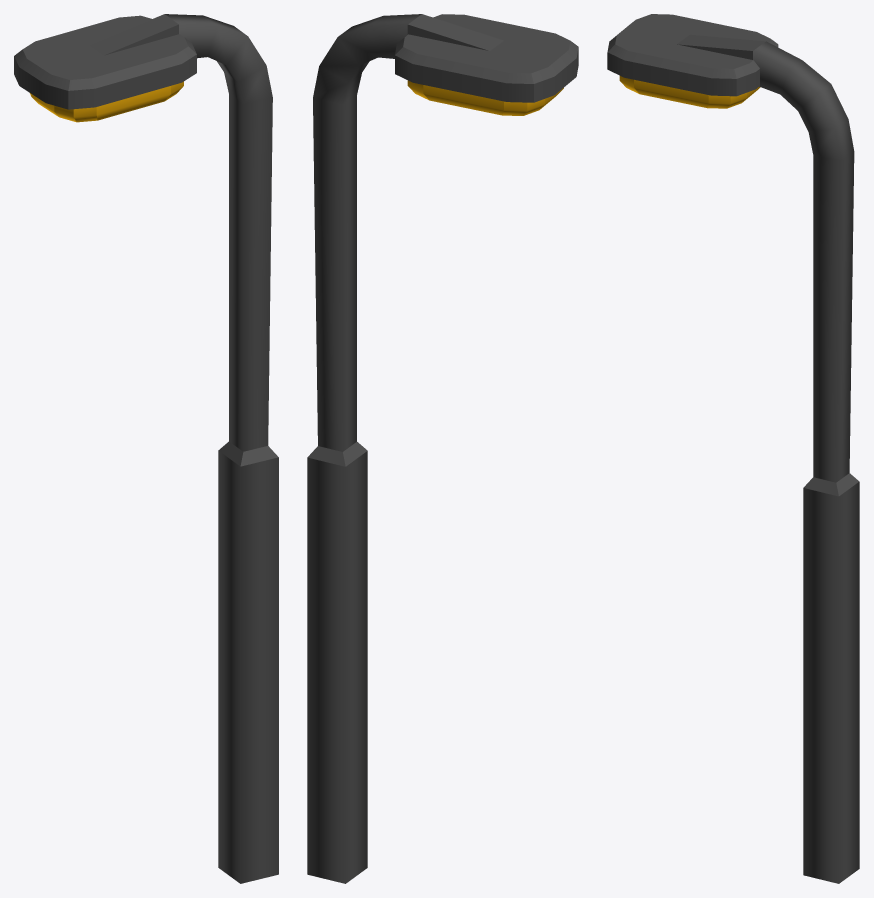
The model's file is SM_LIght.fbx.
3 views of the same model, side by side, from view 1: azimuth 30°, elevation 25°; view 2: azimuth 150°, elevation 25°; view 3: azimuth 330°, elevation 25° (orthographic). The views are drawn at different scales.
Visible parts, largest first — view 1: SM_LIght; view 2: SM_LIght; view 3: SM_LIght.
Part boxes in pixels (box(x1,y1,x2,y2)): SM_LIght: box(14, 14, 278, 883); SM_LIght: box(307, 14, 578, 883); SM_LIght: box(607, 14, 859, 883).
Bounding box in the file's own units: 171 × 588 × 77.82.
